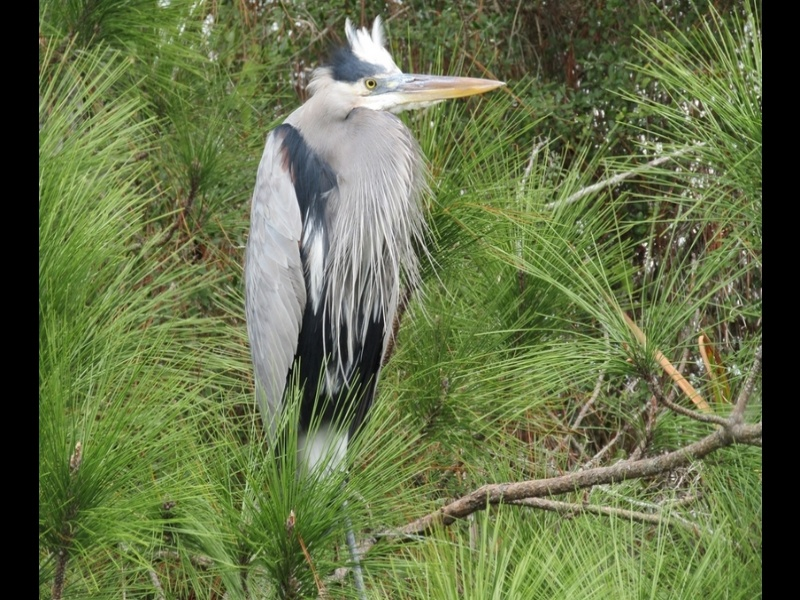heron: (243, 14, 507, 509)
